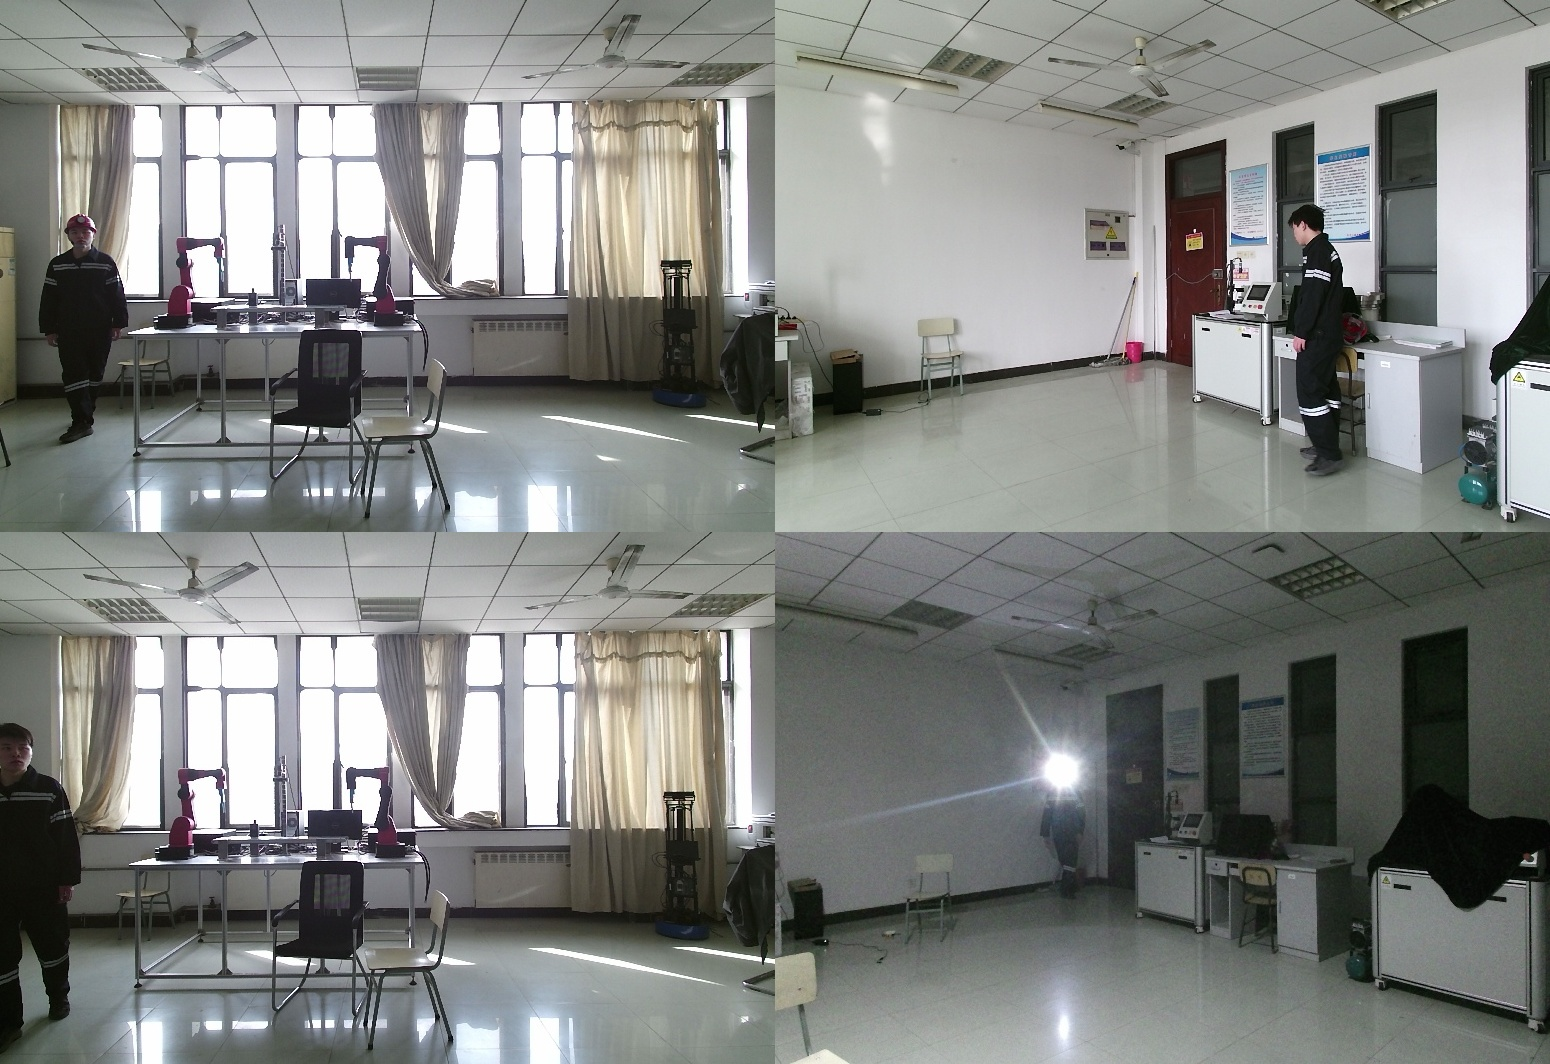person: (3, 723, 88, 1048), (1295, 211, 1384, 475), (37, 216, 129, 443), (1038, 769, 1087, 900)
